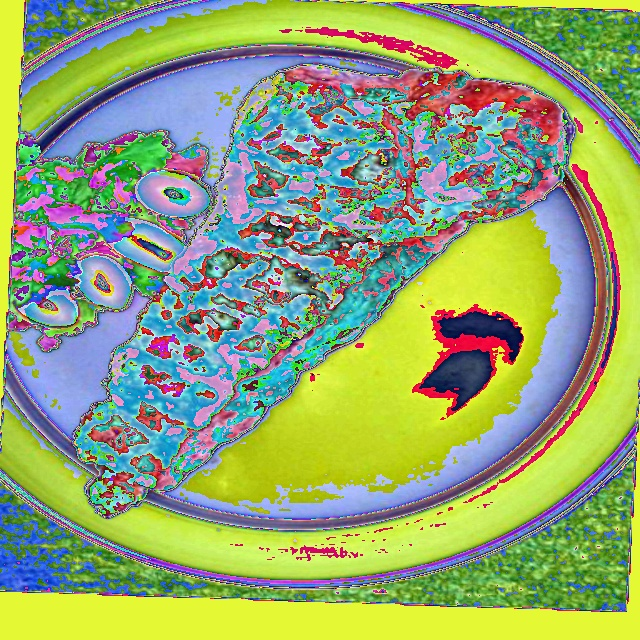background: (7, 63, 574, 518)
